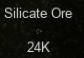Silicate: (3, 6, 73, 54)
